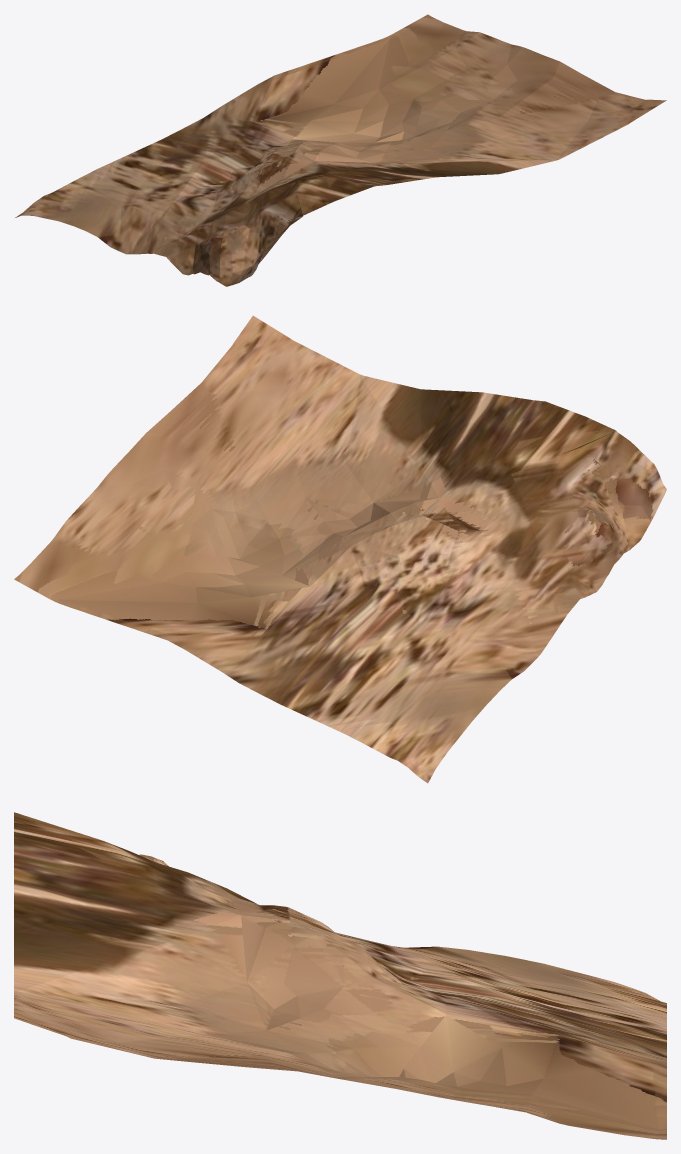
3 views of the same model, one above another, from view 1: azimuth 30°, elevation 25°; view 2: azimuth 150°, elevation 25°; view 3: azimuth 270°, elevation 25° (orthographic). The views are drawn at different scales.
Size of the model in its own units: 1.04 by 0.4631 by 1.04.
3 materials, 3 textured.
